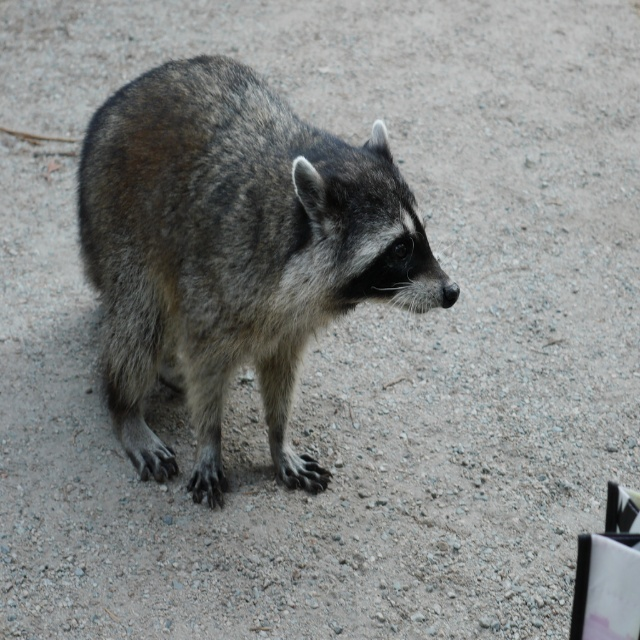Raccoon: (76, 53, 461, 508)
